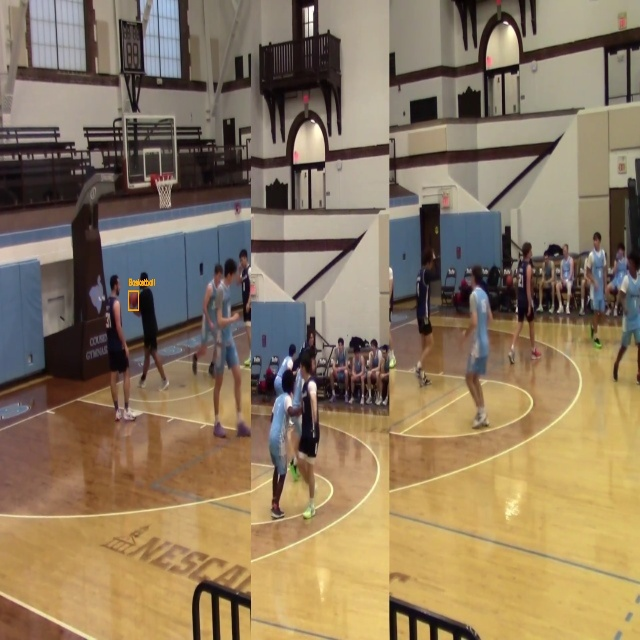Basketball: (129, 291, 139, 310)
